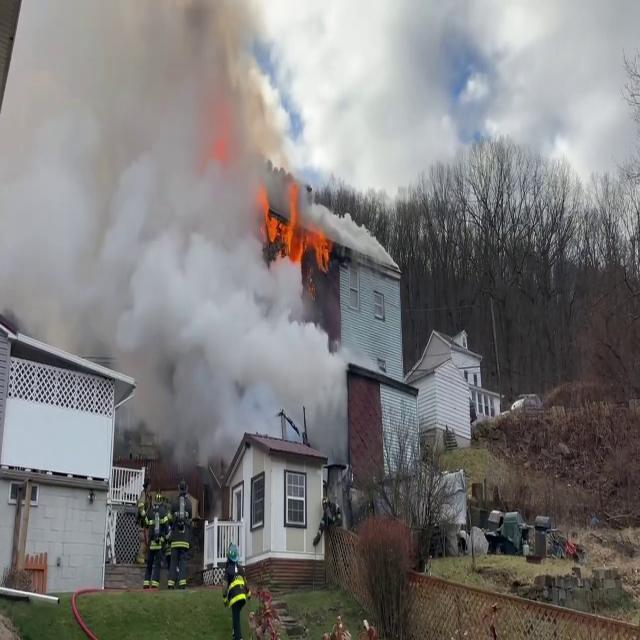Fire: (260, 180, 334, 276)
Smoke: (0, 0, 338, 457)
